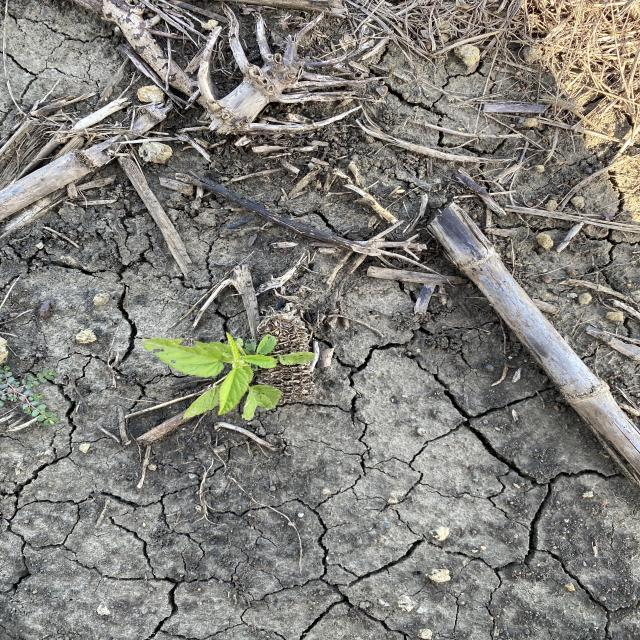PricklySida: (140, 330, 316, 422)
SpottedSpurge: (0, 363, 63, 427)
